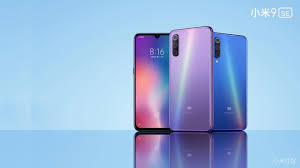mi: (167, 24, 215, 133), (132, 31, 169, 132), (213, 31, 249, 132)
